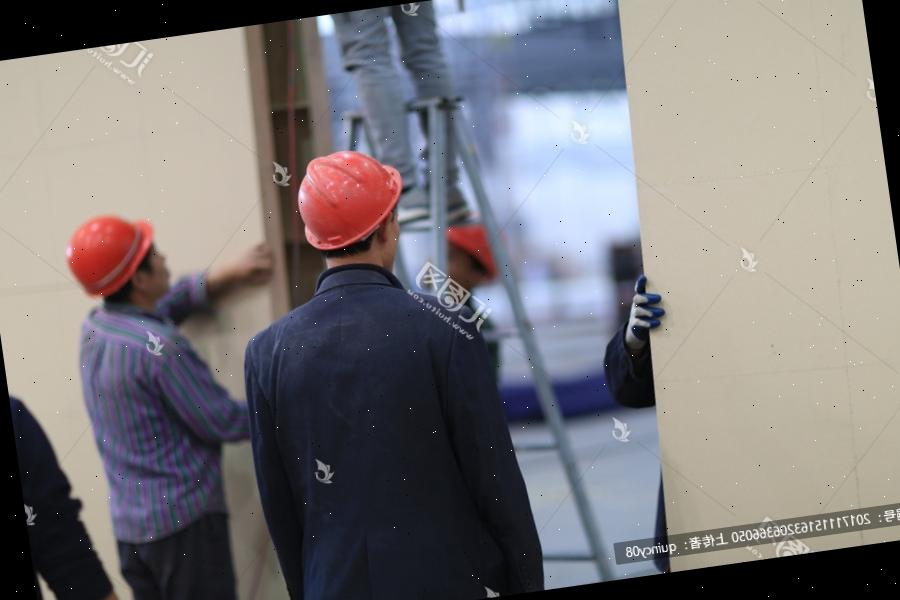helmet: (288, 142, 414, 255), (47, 205, 164, 303)
no_wear: (237, 274, 535, 600), (67, 296, 240, 548)
